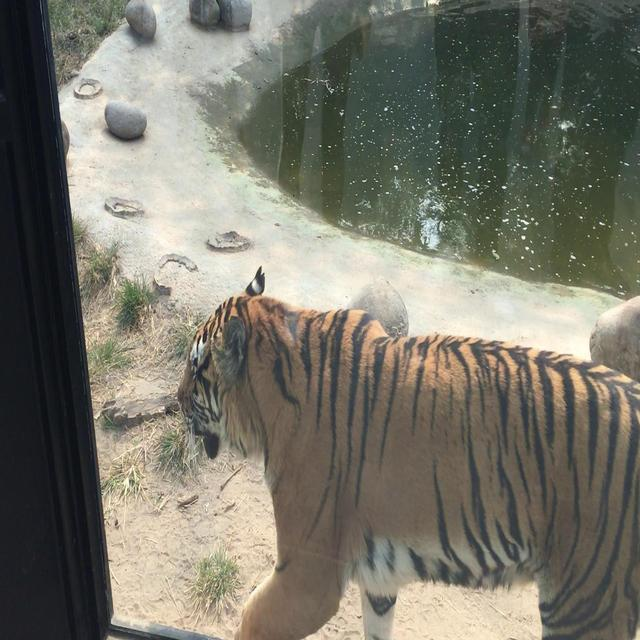tiger: (176, 275, 639, 638)
